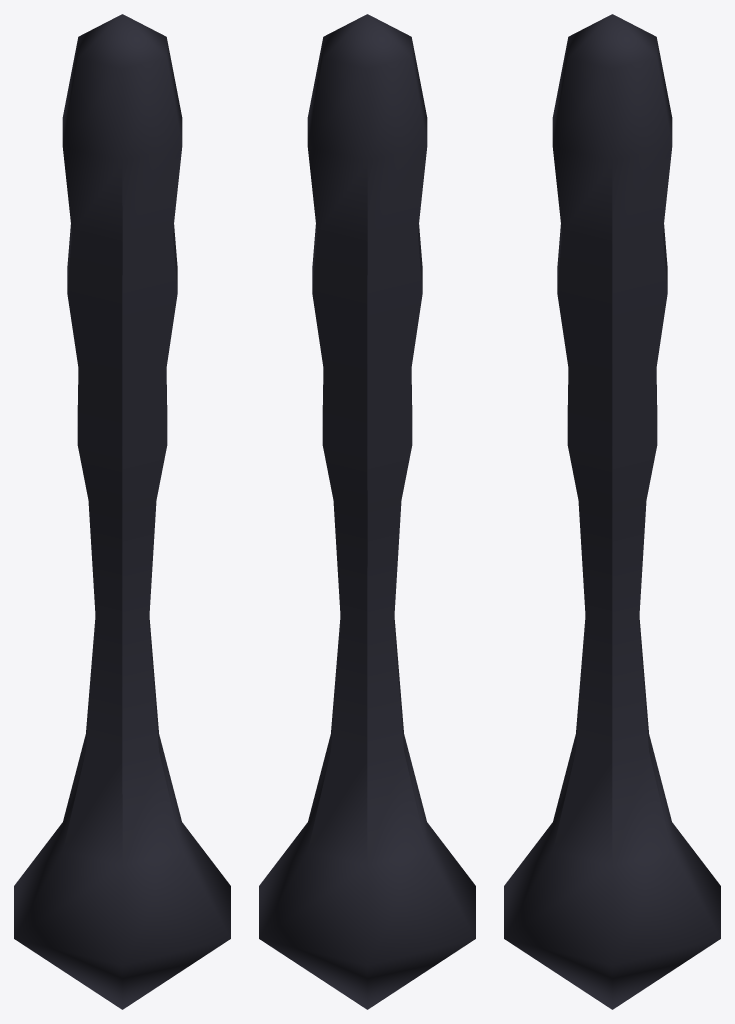
File: fungus_barb.fbx
3 renders of one model, left to right at view 1: azimuth 30°, elevation 25°; view 2: azimuth 150°, elevation 25°; view 3: azimuth 270°, elevation 25°, orthographic.
Visible parts, largest first — view 1: fungus_barb; view 2: fungus_barb; view 3: fungus_barb.
Boxes of the visible parts, x1,y1,x2,y2 form: fungus_barb: [14, 14, 230, 1009]; fungus_barb: [259, 14, 475, 1009]; fungus_barb: [504, 14, 720, 1009].
Size of the model in its own units: 0.2214 by 0.9717 by 0.1918.
